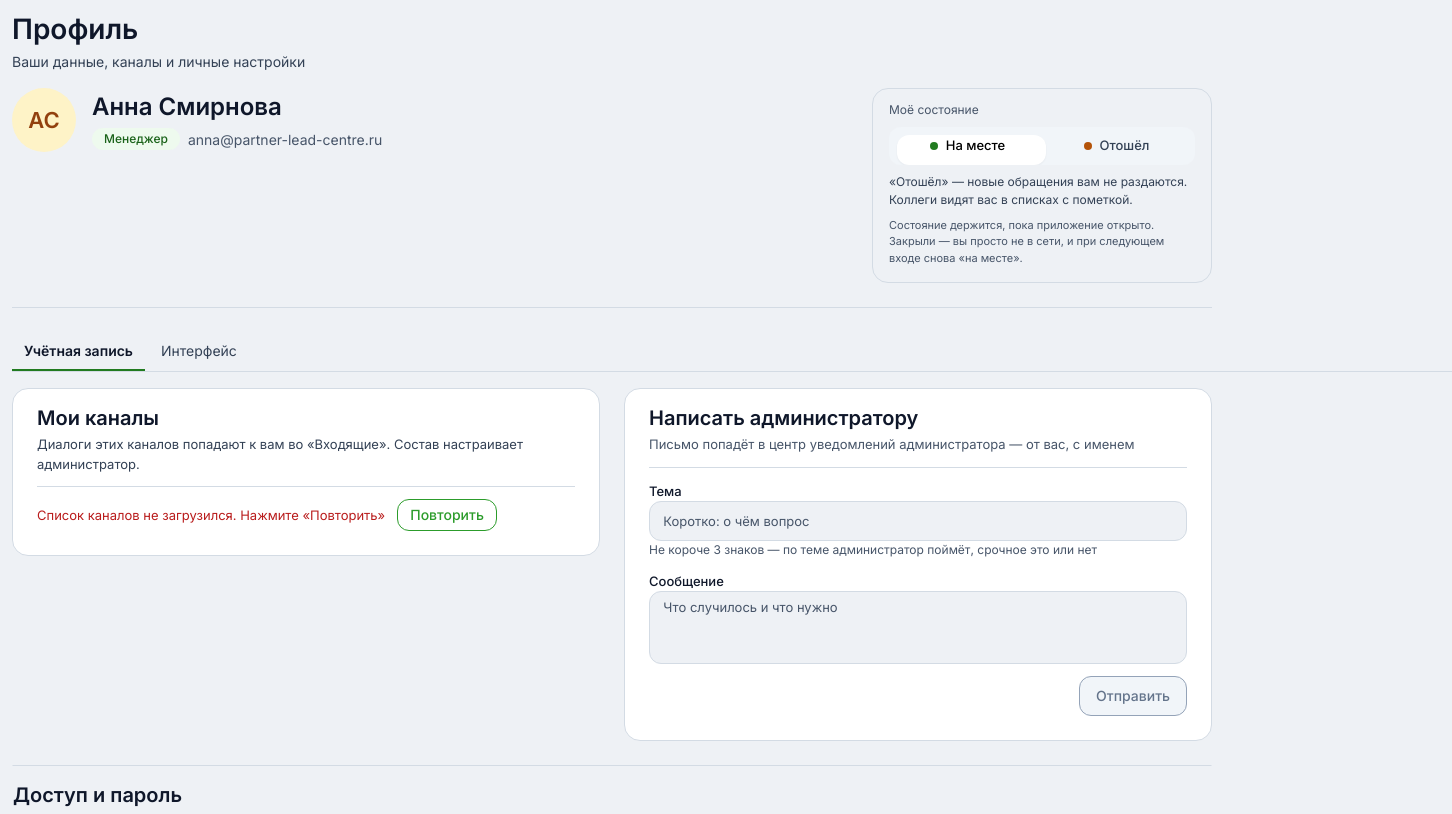
Test: «Мои каналы» в профиле сотрудника (7.2) › у ошибки есть кнопка «Повторить», и она правда перезапрашивает список
The width and height of the screenshot is (1452, 814).
Click the button "Повторить".
click(447, 515)  # box x1=397 y1=499 x2=497 y2=531
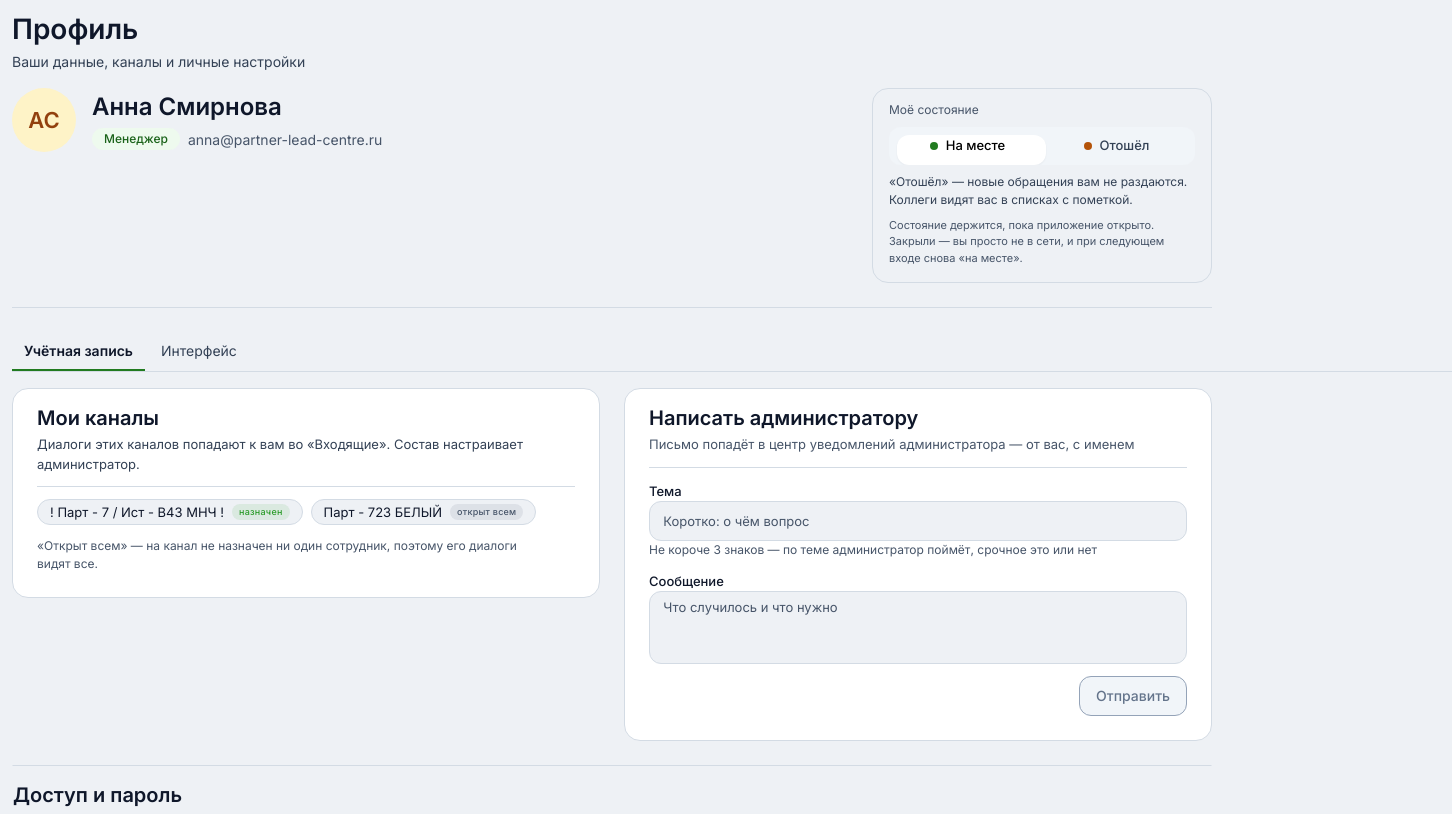
Expected: the text "! Парт - 7 / Ист - В43 МНЧ !" is shown, x1=50 y1=502 x2=224 y2=522
